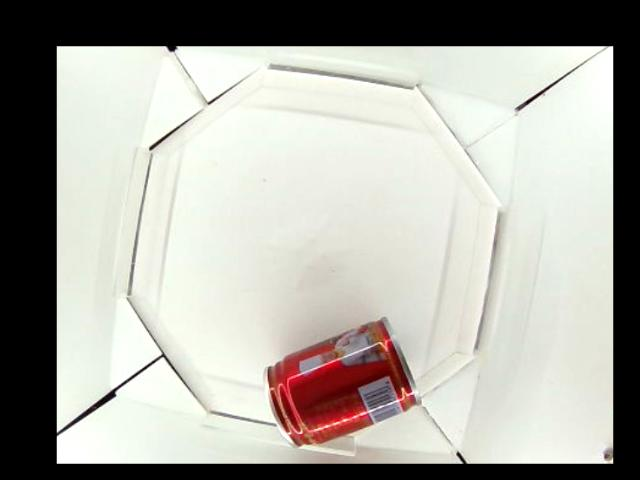Bottle: (259, 316, 422, 451)
